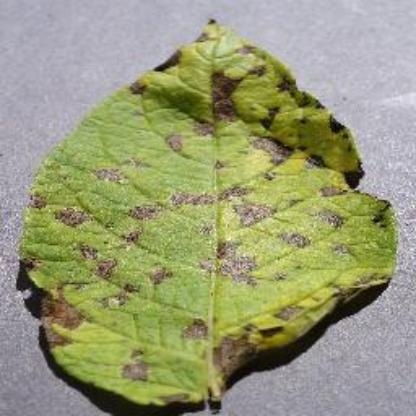Early-Blight: (17, 15, 403, 408)
